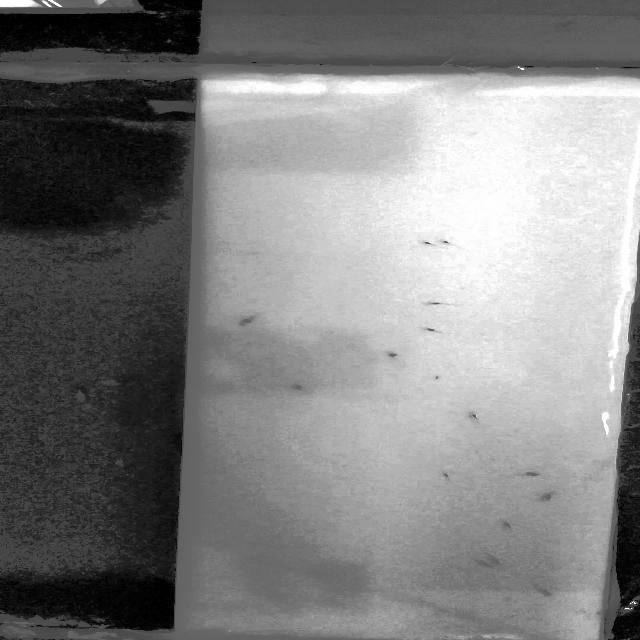shrimp: (421, 299, 454, 308), (235, 318, 268, 327), (486, 554, 506, 567), (532, 584, 556, 594), (467, 411, 484, 425), (422, 325, 444, 335), (479, 554, 491, 572), (523, 470, 544, 480), (292, 385, 309, 394), (440, 473, 454, 482), (420, 241, 440, 247), (542, 493, 555, 502), (437, 240, 456, 245), (502, 523, 514, 530), (387, 352, 404, 356)
